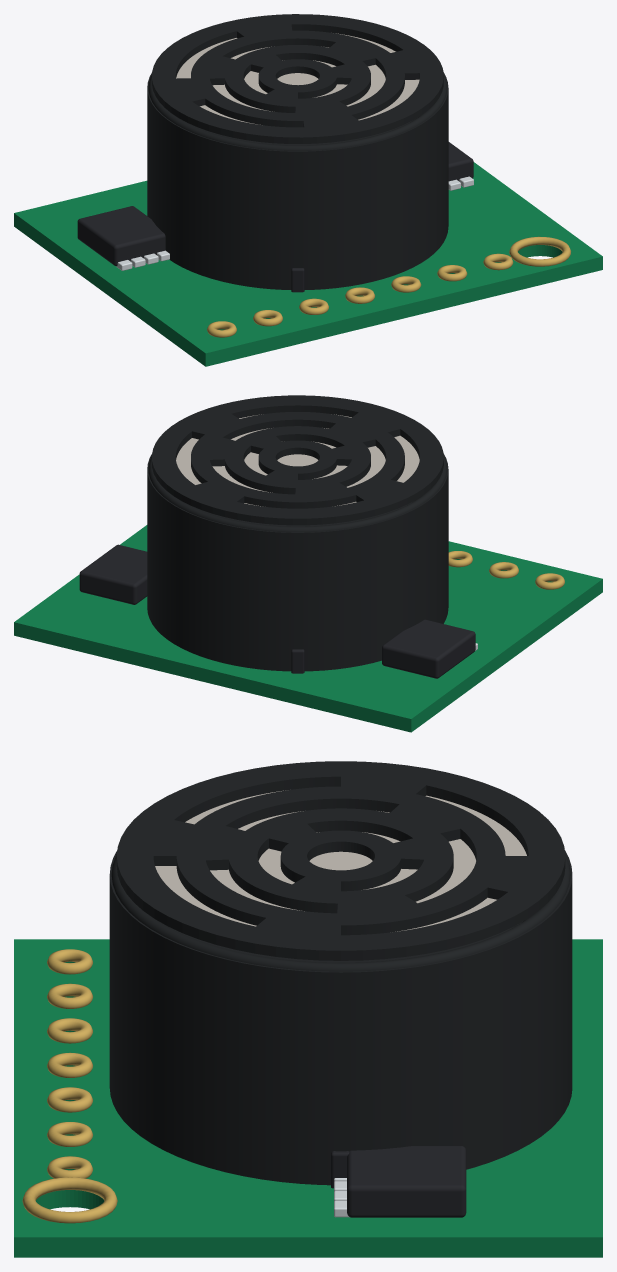
Rendered from components-37.glb.
3 renders of one model, top to bottom at view 1: azimuth 30°, elevation 25°; view 2: azimuth 150°, elevation 25°; view 3: azimuth 270°, elevation 25°, orthographic. The views are drawn at different scales.
Visible parts, largest first — view 1: housing, board, grille, electronics, pads, mounting; view 2: housing, board, grille, electronics, pads; view 3: housing, grille, board, electronics, pads, mounting.
Boxes of the visible parts, x1,y1,x2,y2 form: housing: (147,72,448,292); board: (14,162,602,366); grille: (152,14,443,143); electronics: (77,142,473,270); pads: (207,253,513,337); mounting: (509,236,571,266); housing: (147,454,448,673); board: (14,525,602,732); grille: (152,395,443,525); electronics: (79,544,477,678); pads: (448,551,564,589); housing: (109,850,572,1188); grille: (116,761,565,960); board: (14,939,602,1257); electronics: (334,1146,466,1217); pads: (47,949,92,1178); mounting: (22,1177,117,1223).
Bounding box in the file's own units: 2.01 × 0.796 × 1.68.
